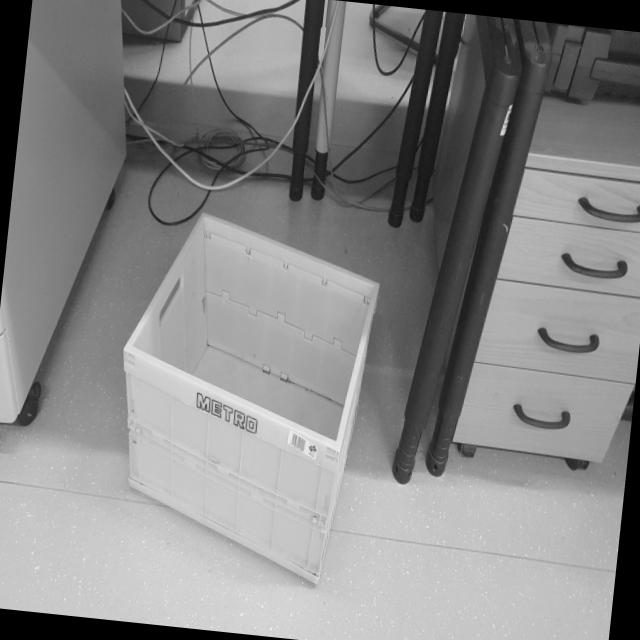box: (92, 193, 388, 600)
